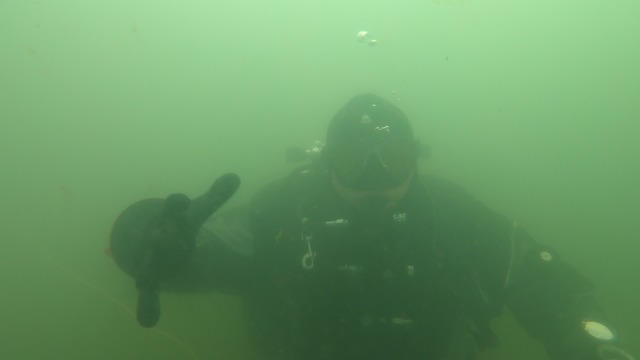Diver: (96, 58, 639, 358)
Hand: (115, 173, 249, 323)
Head: (309, 78, 445, 251)
